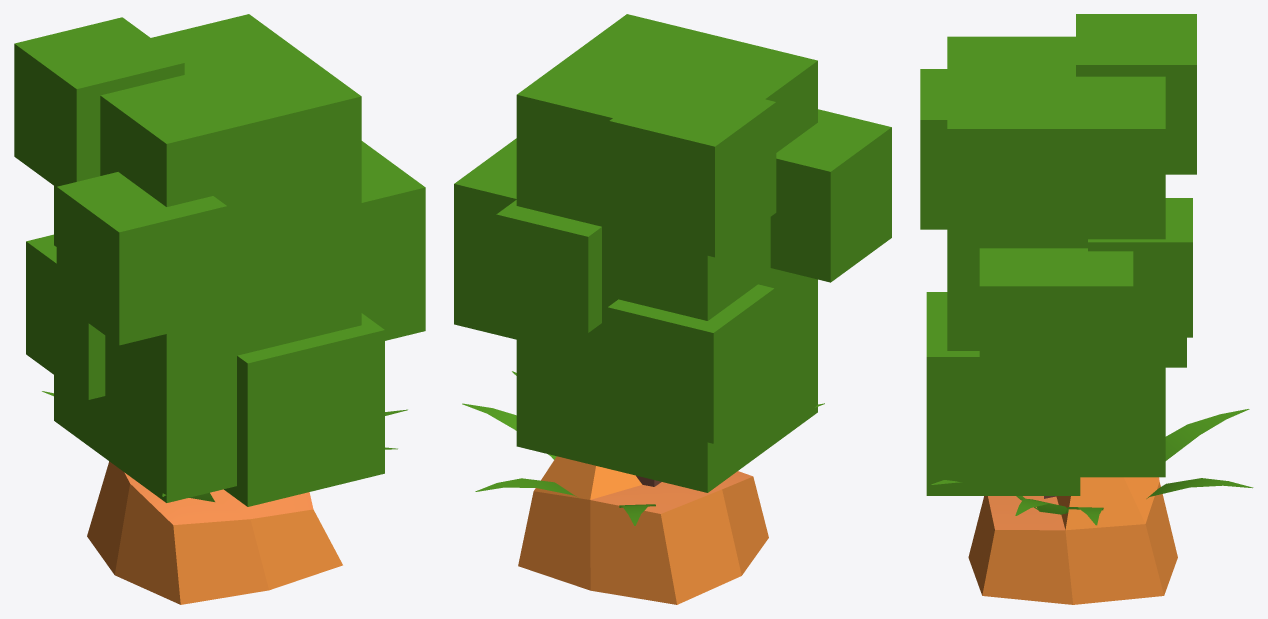
The model's file is gardenProp.fbx.
3 views of the same model, side by side, from view 1: azimuth 30°, elevation 25°; view 2: azimuth 150°, elevation 25°; view 3: azimuth 270°, elevation 25° (orthographic). The views are drawn at different scales.
Visible parts, largest first — view 1: tree_prop, tree_prop_1, Rock; view 2: tree_prop, tree_prop_1, Rock, grass_1; view 3: tree_prop, tree_prop_1, Rock, grass_1.
Part boxes in pixels (x1=…): tree_prop: x1=14, y1=14, x2=425, y2=347; tree_prop_1: x1=26, y1=234, x2=384, y2=506; Rock: x1=87, y1=461, x2=342, y2=604; tree_prop: x1=454, y1=14, x2=891, y2=486; tree_prop_1: x1=496, y1=200, x2=817, y2=492; Rock: x1=518, y1=456, x2=768, y2=604; grass_1: x1=462, y1=371, x2=824, y2=525; tree_prop: x1=920, y1=14, x2=1196, y2=498; tree_prop_1: x1=926, y1=198, x2=1192, y2=495; Rock: x1=968, y1=477, x2=1177, y2=604; grass_1: x1=931, y1=409, x2=1253, y2=525.
Size of the model in its own units: 90.48 by 123 by 77.36.
